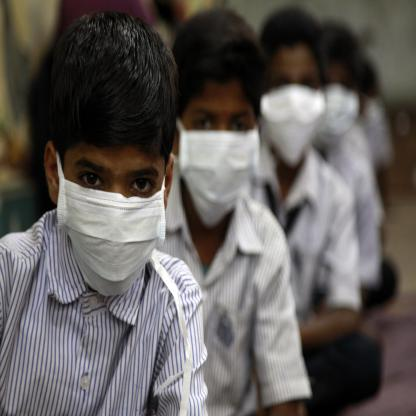Wearing_Mask: (47, 64, 169, 290), (180, 38, 253, 221), (256, 30, 327, 164), (325, 43, 356, 130)
